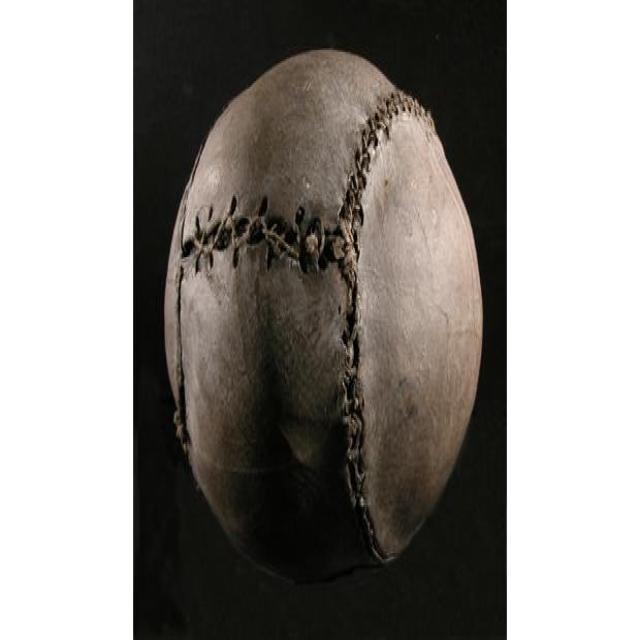ball: (159, 39, 488, 575)
